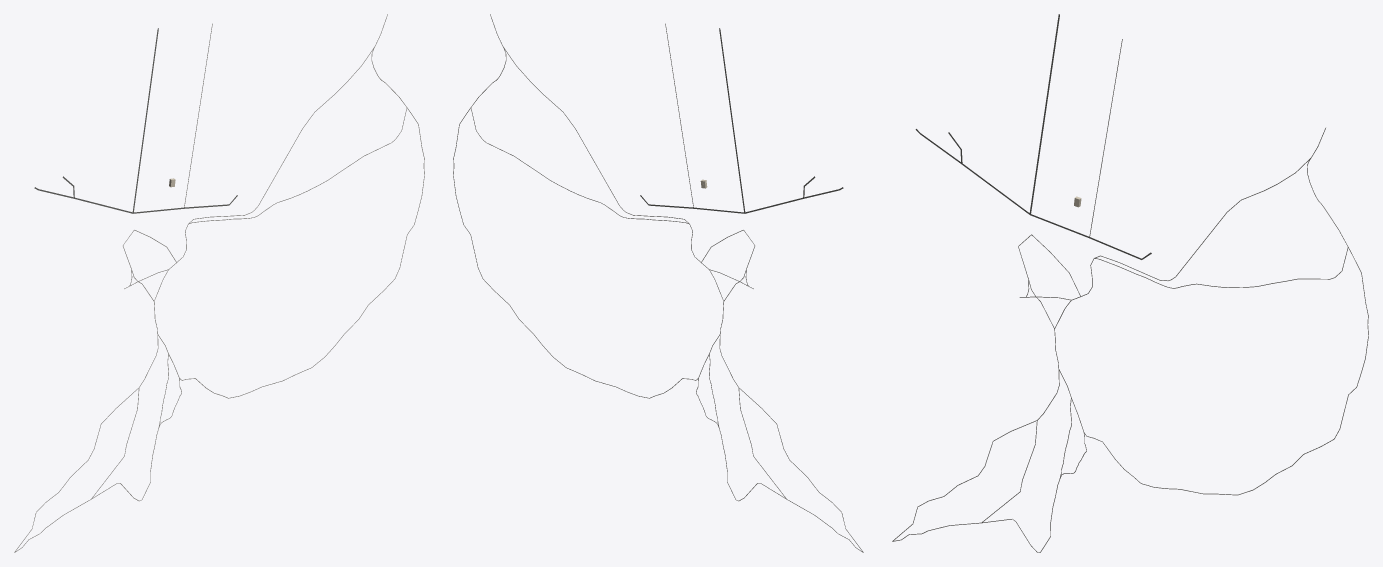
Rendered from historic-palestine-10_09_3515_3035.glb.
3 renders of one model, left to right at view 1: azimuth 30°, elevation 25°; view 2: azimuth 150°, elevation 25°; view 3: azimuth 330°, elevation 25°, orthographic. The views are drawn at different scales.
Visible parts, largest first — view 1: no part large enough to name; view 2: no part large enough to name; view 3: Road .014.
Boxes of the visible parts, x1,y1,x2,y2 form: Road .014: (1084, 247, 1368, 495).
Size of the model in its own units: 1042 by 1188 by 8.7.
